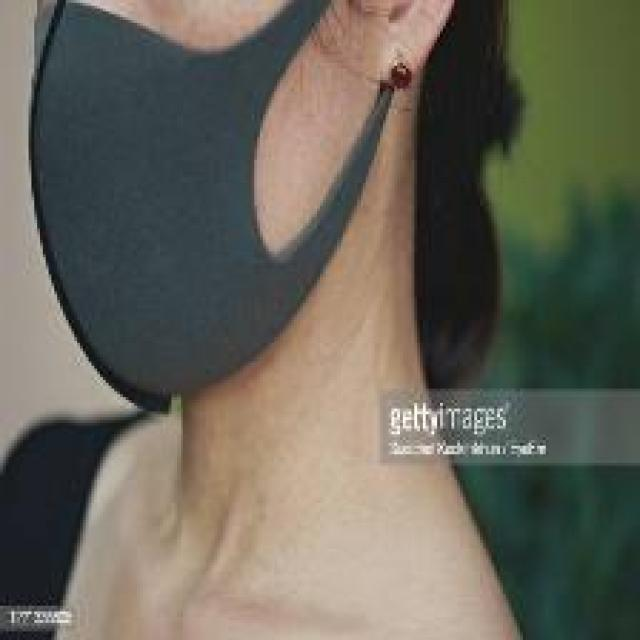Mask: (29, 0, 422, 434)
